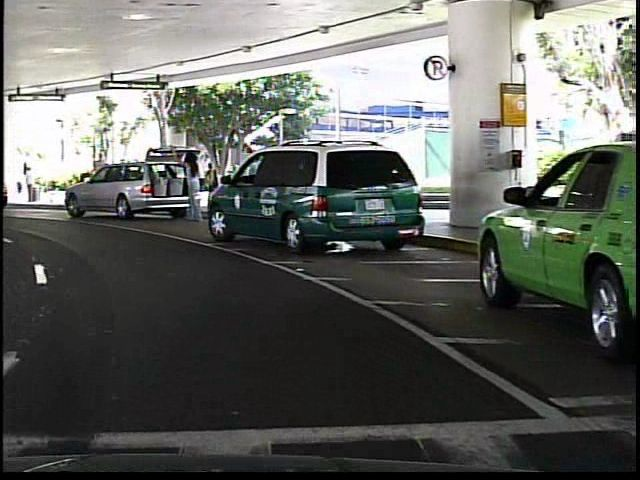person: (183, 155, 218, 213), (181, 147, 200, 227), (85, 149, 109, 202)
